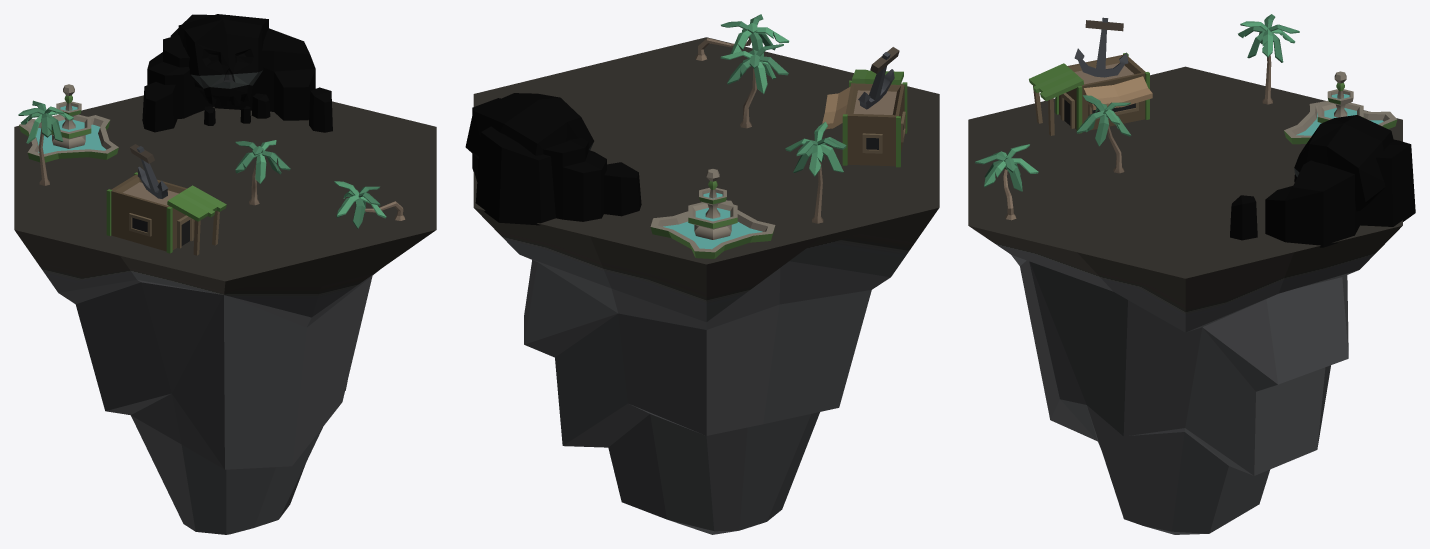
Rendered from hextile.glb.
3 renders of one model, left to right at view 1: azimuth 30°, elevation 25°; view 2: azimuth 150°, elevation 25°; view 3: azimuth 270°, elevation 25°, orthographic. The views are drawn at different scales.
Visible parts, largest first — view 1: SM_Tile_Hex_FloatingIsland_01, SM_Env_Pirate_SkullRock_01, SM_Bld_Pirate_Shack_01, SM_Bld_Pirates_Fountain_01, SM_Env_Pirate_Palm_01, SM_Env_Pirate_Palm_02, SM_Env_Pirate_Palm_03; view 2: SM_Tile_Hex_FloatingIsland_01, SM_Env_Pirate_SkullRock_01, SM_Bld_Pirate_Shack_01, SM_Bld_Pirates_Fountain_01, SM_Env_Pirate_Palm_01, SM_Env_Pirate_Palm_02, SM_Env_Pirate_Palm_03; view 3: SM_Tile_Hex_FloatingIsland_01, SM_Env_Pirate_SkullRock_01, SM_Bld_Pirate_Shack_01, SM_Bld_Pirates_Fountain_01, SM_Env_Pirate_Palm_01, SM_Env_Pirate_Palm_03, SM_Env_Pirate_Palm_02.
Boxes of the visible parts, <box> form: SM_Tile_Hex_FloatingIsland_01: <box>14,95,436,534</box>; SM_Env_Pirate_SkullRock_01: <box>142,14,332,132</box>; SM_Bld_Pirate_Shack_01: <box>106,144,226,255</box>; SM_Bld_Pirates_Fountain_01: <box>19,84,118,162</box>; SM_Env_Pirate_Palm_01: <box>18,100,73,185</box>; SM_Env_Pirate_Palm_02: <box>235,140,290,205</box>; SM_Env_Pirate_Palm_03: <box>334,181,405,228</box>; SM_Tile_Hex_FloatingIsland_01: <box>473,37,939,534</box>; SM_Env_Pirate_SkullRock_01: <box>465,93,641,225</box>; SM_Bld_Pirate_Shack_01: <box>822,47,907,167</box>; SM_Bld_Pirates_Fountain_01: <box>650,169,775,258</box>; SM_Env_Pirate_Palm_01: <box>785,121,846,223</box>; SM_Env_Pirate_Palm_02: <box>720,44,788,128</box>; SM_Env_Pirate_Palm_03: <box>695,14,789,60</box>; SM_Tile_Hex_FloatingIsland_01: <box>968,66,1402,534</box>; SM_Env_Pirate_SkullRock_01: <box>1230,115,1415,247</box>; SM_Bld_Pirate_Shack_01: <box>1029,17,1152,135</box>; SM_Bld_Pirates_Fountain_01: <box>1284,71,1397,144</box>; SM_Env_Pirate_Palm_01: <box>1238,14,1299,104</box>; SM_Env_Pirate_Palm_03: <box>975,144,1038,220</box>; SM_Env_Pirate_Palm_02: <box>1076,95,1131,173</box>.
Size of what is drawn, in the model's own units: 5.77 by 5.78 by 5.15.
1 material, 1 textured.
